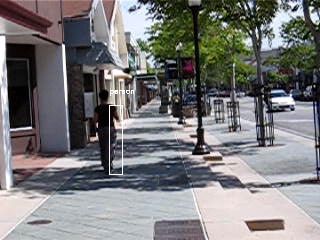person: (92, 90, 119, 176), (91, 90, 118, 176), (93, 90, 120, 176), (92, 89, 119, 175), (92, 91, 119, 177)
target_negative: (47, 138, 283, 183), (61, 118, 169, 206), (259, 150, 265, 211), (292, 192, 303, 205), (257, 199, 287, 202), (275, 230, 284, 233)
